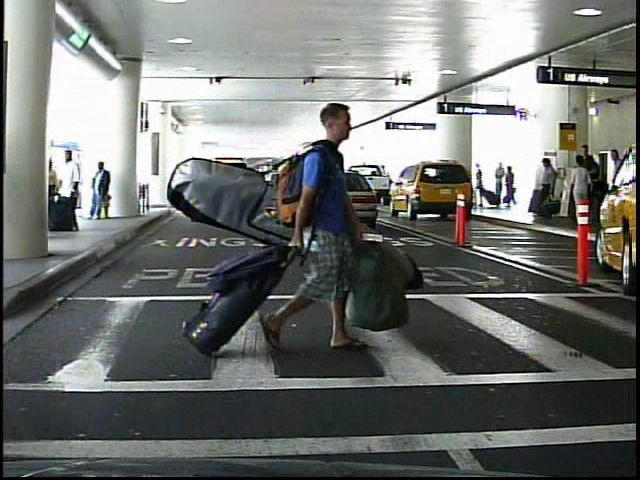person: (282, 91, 380, 368), (54, 146, 84, 234), (566, 155, 591, 226), (79, 159, 105, 225), (594, 146, 623, 204), (535, 157, 559, 223), (574, 143, 594, 221), (471, 161, 485, 209), (494, 162, 507, 209), (503, 163, 514, 207)
